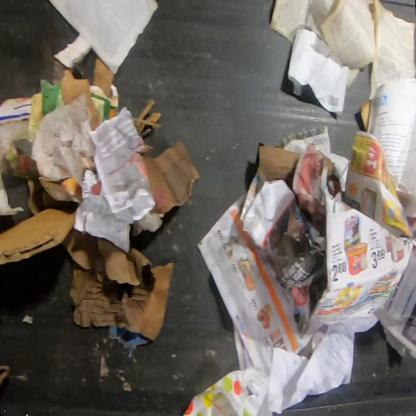cardboard: (65, 229, 175, 340), (142, 141, 201, 216), (0, 208, 78, 264), (60, 66, 100, 130), (258, 142, 301, 192), (89, 84, 120, 122), (94, 54, 115, 96), (358, 100, 371, 131)
